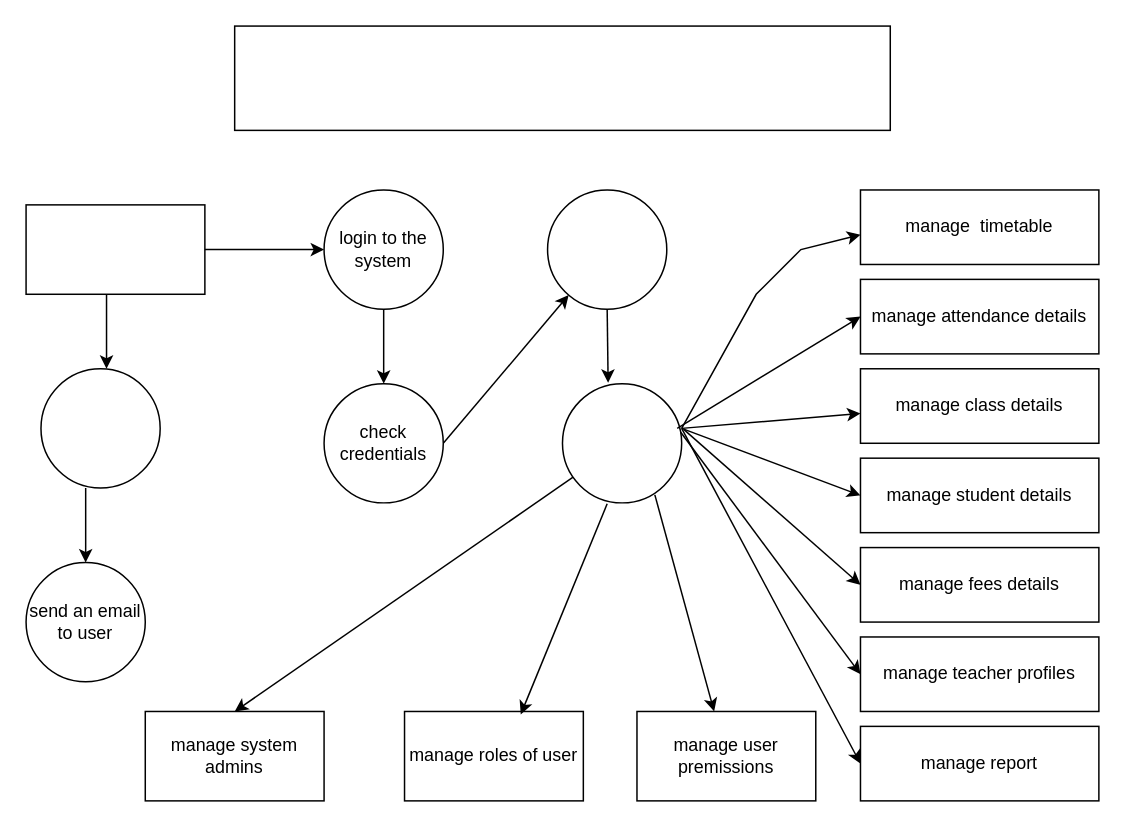
Image size: 1125x827. Some labels were removed from this diagram. Each missing label, with the centre of its shape:
"Admin" goes at (x=115, y=248).
"check roles of access" goes at (x=606, y=248).
"Forget password" goes at (x=99, y=427).
"Manage modules" goes at (x=621, y=442).
"Student Information system" goes at (x=561, y=77).
